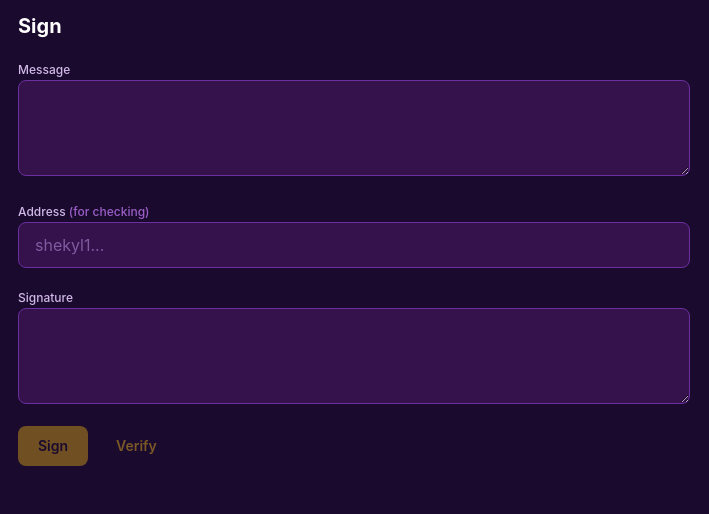
Test: Sign › drops a match when the signature changes, and keeps a signature when only the address changes
Type "hello" into the text box labelled "Message" at (354, 128), box x1=18 y1=80 x2=690 y2=176
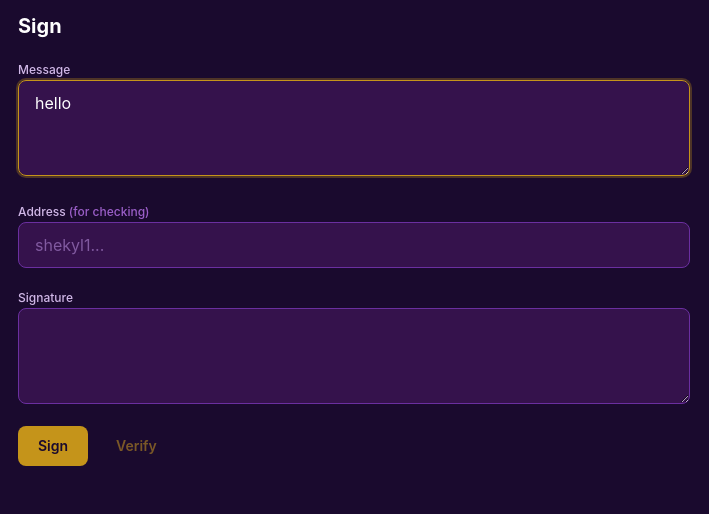
Click the button "Sign" at (53, 446), box x1=18 y1=426 x2=88 y2=466
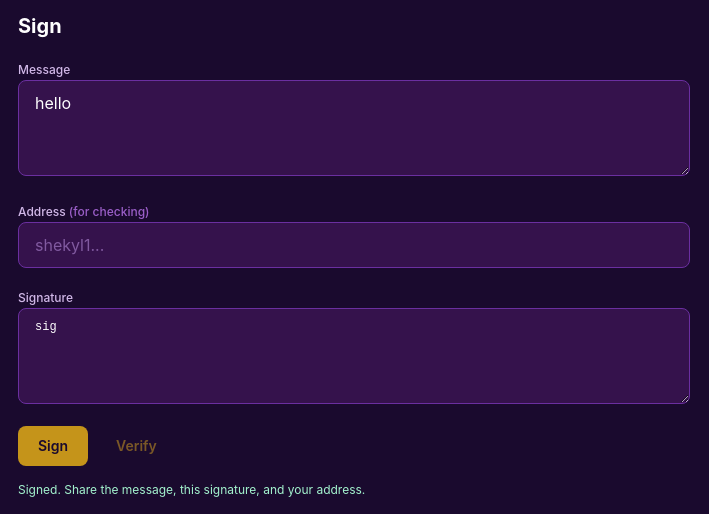
Expected: the text "Signed. Share the message, this signature, and your address." is shown, x1=18 y1=482 x2=365 y2=497
Type "addr" into the field labelled "Address (for checking)" at (354, 245), box x1=18 y1=222 x2=690 y2=268
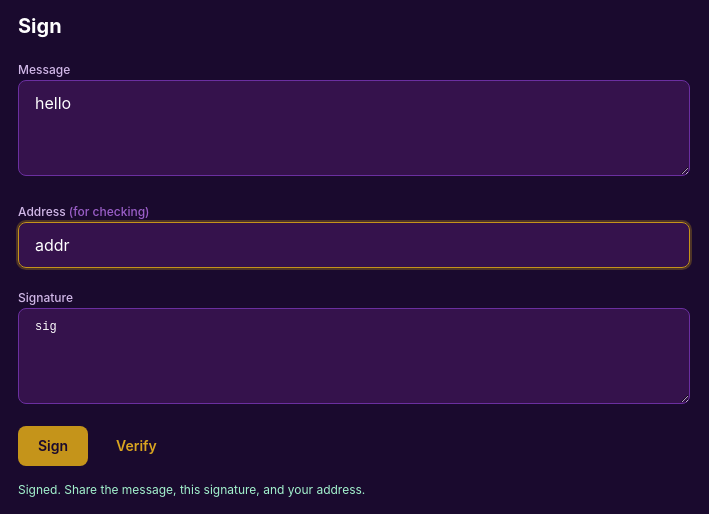
Expected: the text "Signed. Share the message, this signature, and your address." is shown, x1=18 y1=482 x2=365 y2=497
Type "x" into the text box labelled "Signature" at (354, 356), box x1=18 y1=308 x2=690 y2=404
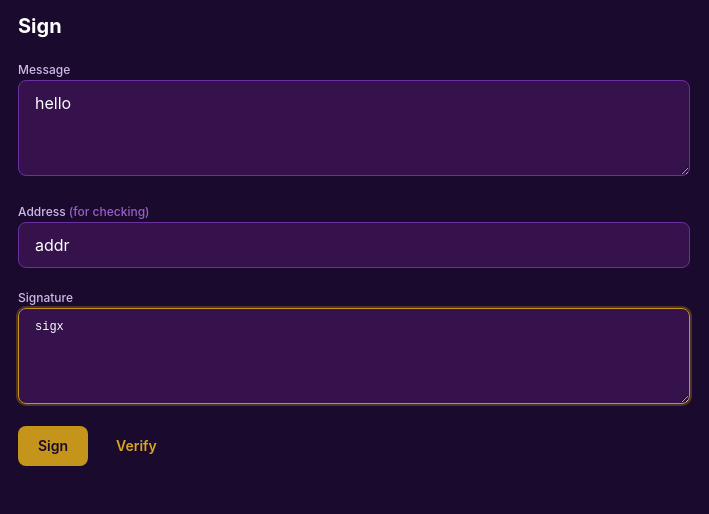
Expected: the text "Share the message" is gone
